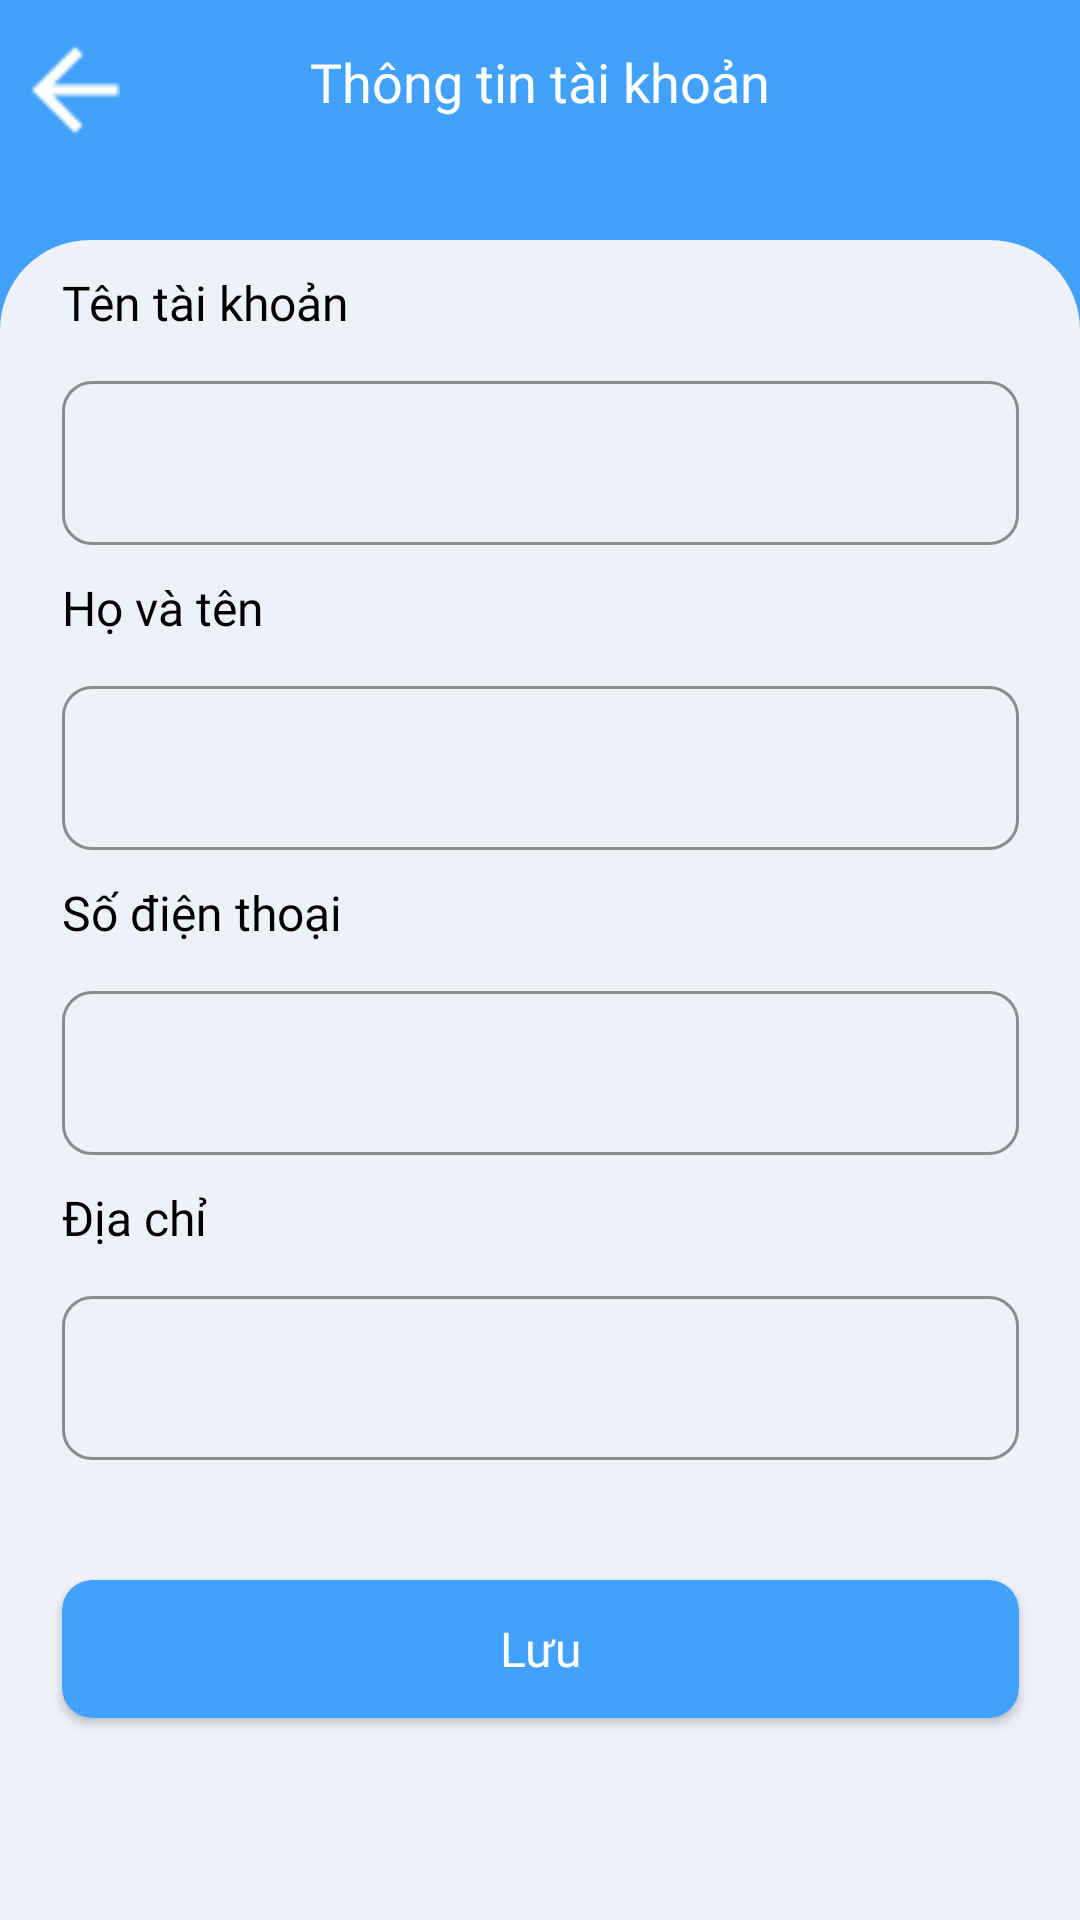

Icon click points for this 1080 × 1920 phone screenshot, format point (x, y):
arrow back: point (76, 90)
